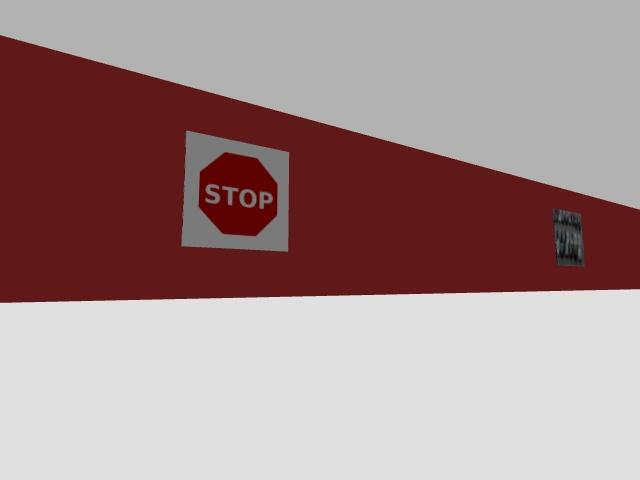stopsign: (181, 131, 288, 251)
